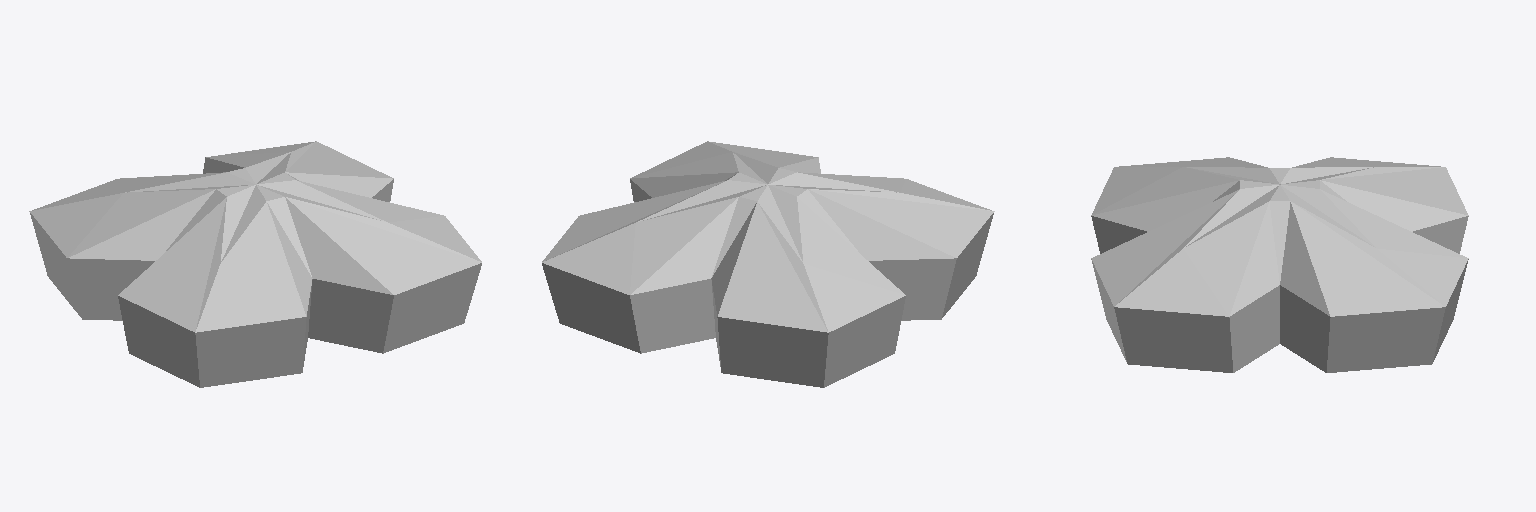
The model's file is 2Ratchet.obj.
3 views of the same model, side by side, from view 1: azimuth 30°, elevation 25°; view 2: azimuth 150°, elevation 25°; view 3: azimuth 270°, elevation 25° (orthographic).
Visible parts, largest first — view 1: 2Ratchet; view 2: 2Ratchet; view 3: 2Ratchet.
Boxes of the visible parts, x1,y1,x2,y2 form: 2Ratchet: [29, 141, 481, 387]; 2Ratchet: [542, 141, 994, 387]; 2Ratchet: [1091, 157, 1468, 372].
Size of the model in its own units: 3.68 by 1.54 by 3.68.